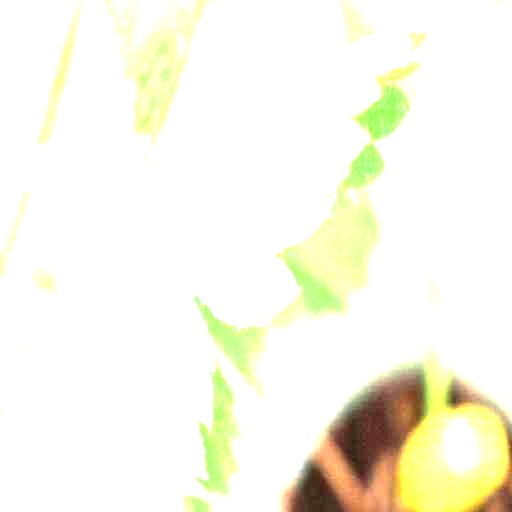Powdery Mildew Leaf: (111, 11, 436, 328), (109, 218, 251, 511)
